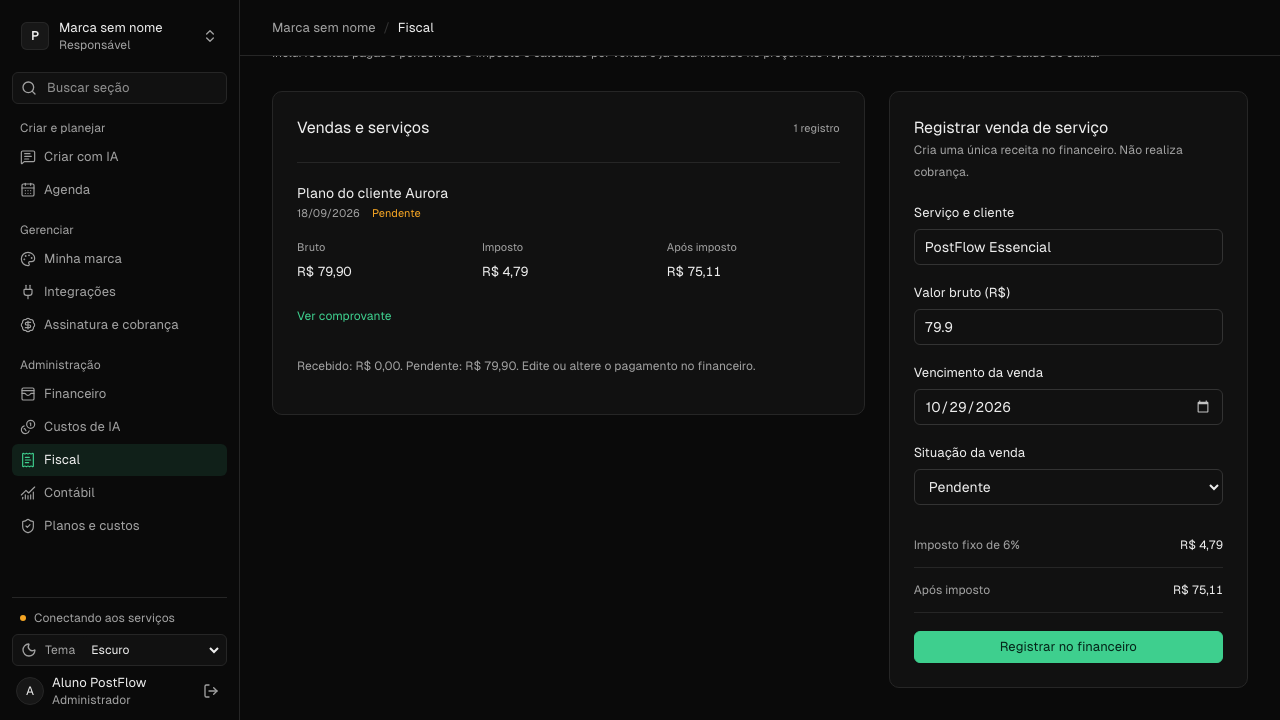
it: FiscalPage › registra uma única venda e atualiza relatório sem enviar imposto do cliente
(page scrolled)
Expected: the heading "Plano do cliente Aurora" is shown, [297,185,448,201]
In the date field labelled "Vencimento da venda": (1068, 407) [914,389,1223,425], type "2026-09-18"
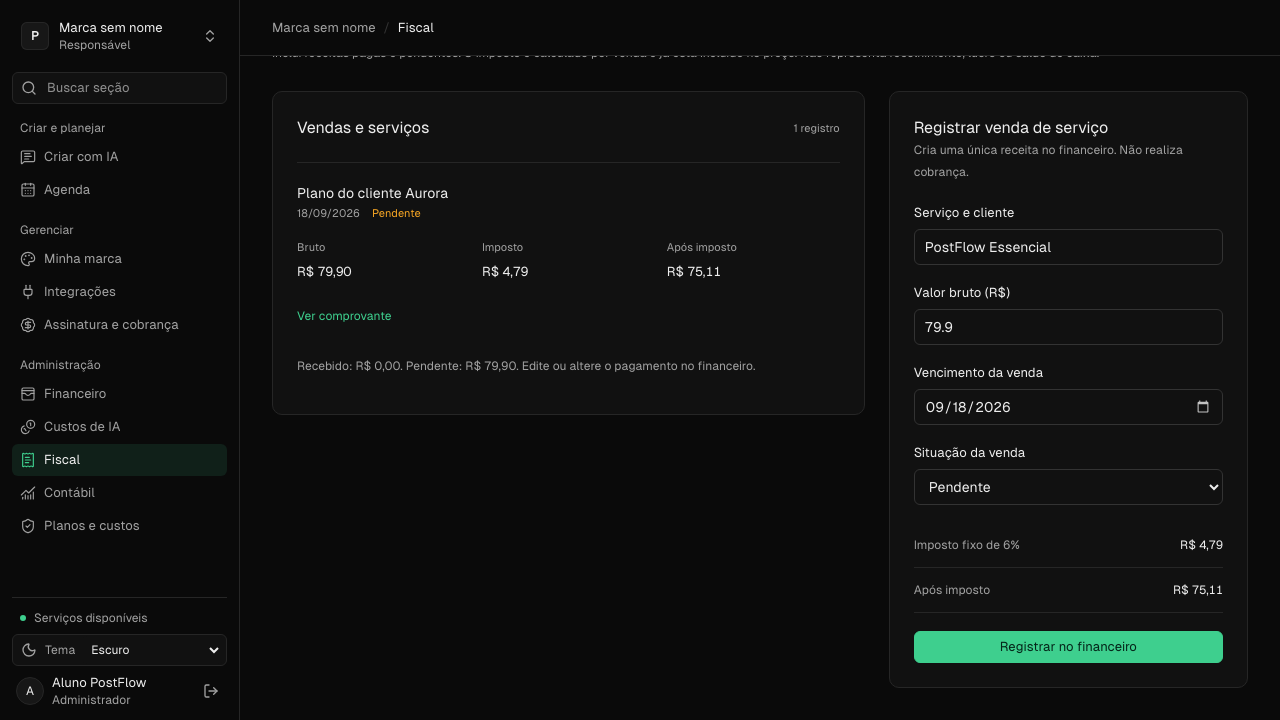
Click the button "Registrar no financeiro": click(1068, 647) [914,631,1223,663]
(page scrolled)
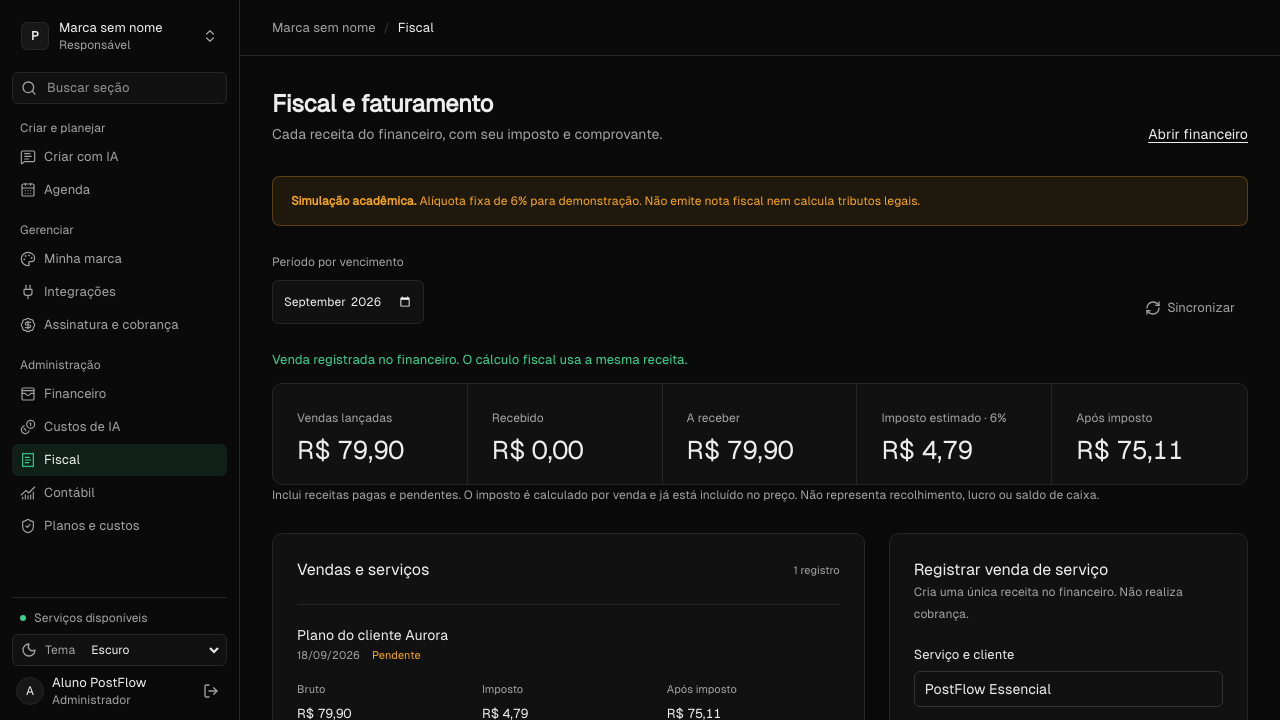
Now the text "Venda registrada no financeiro. O cálculo fiscal usa a mesma receita." is shown, box [272,352,687,367]
